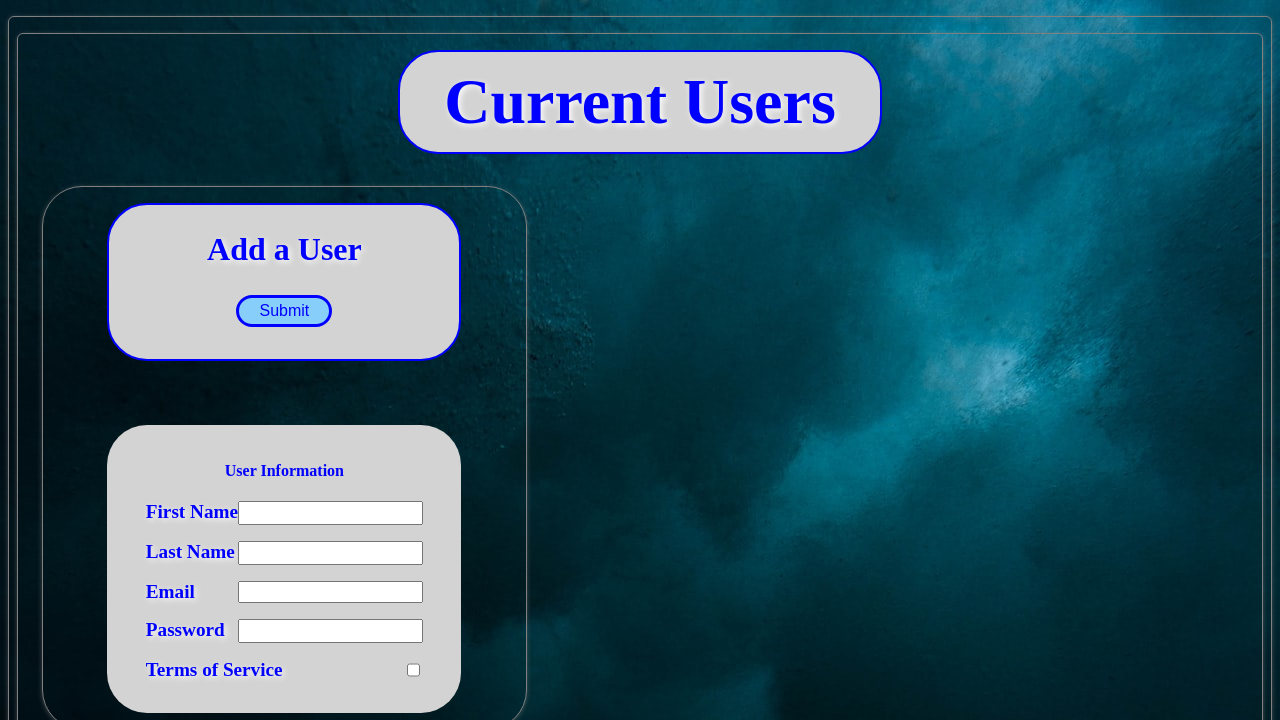
Test: Form validation › validates last name correctly
Expected: the text "Last name must be at least three characters long" is not shown
Type "a" into the field named "lName" at (331,553), box [238,541,423,565]
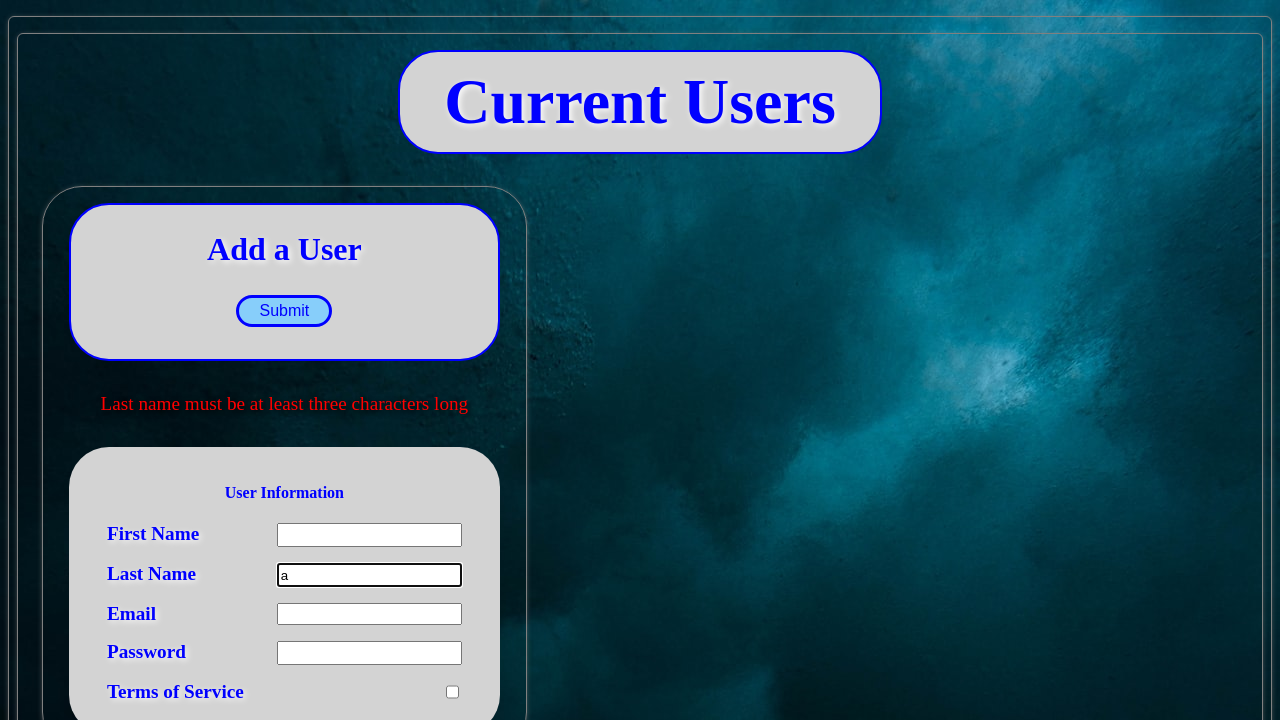
Now the text "Last name must be at least three characters long" is shown, box [101,393,468,415]
Type "b" into the field named "lName" at (370,575), box [277,563,462,587]
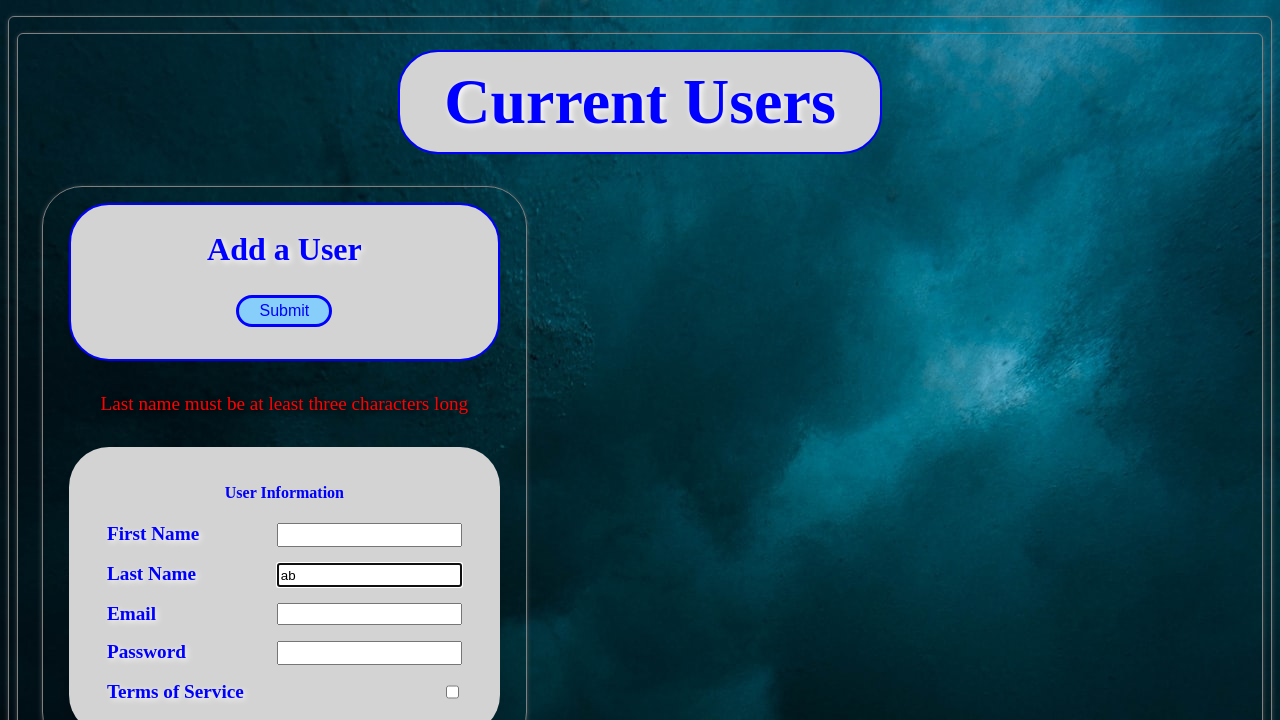
Now the text "Last name must be at least three characters long" is shown, box [101,393,468,415]
Type "c" into the field named "lName" at (370,575), box [277,563,462,587]
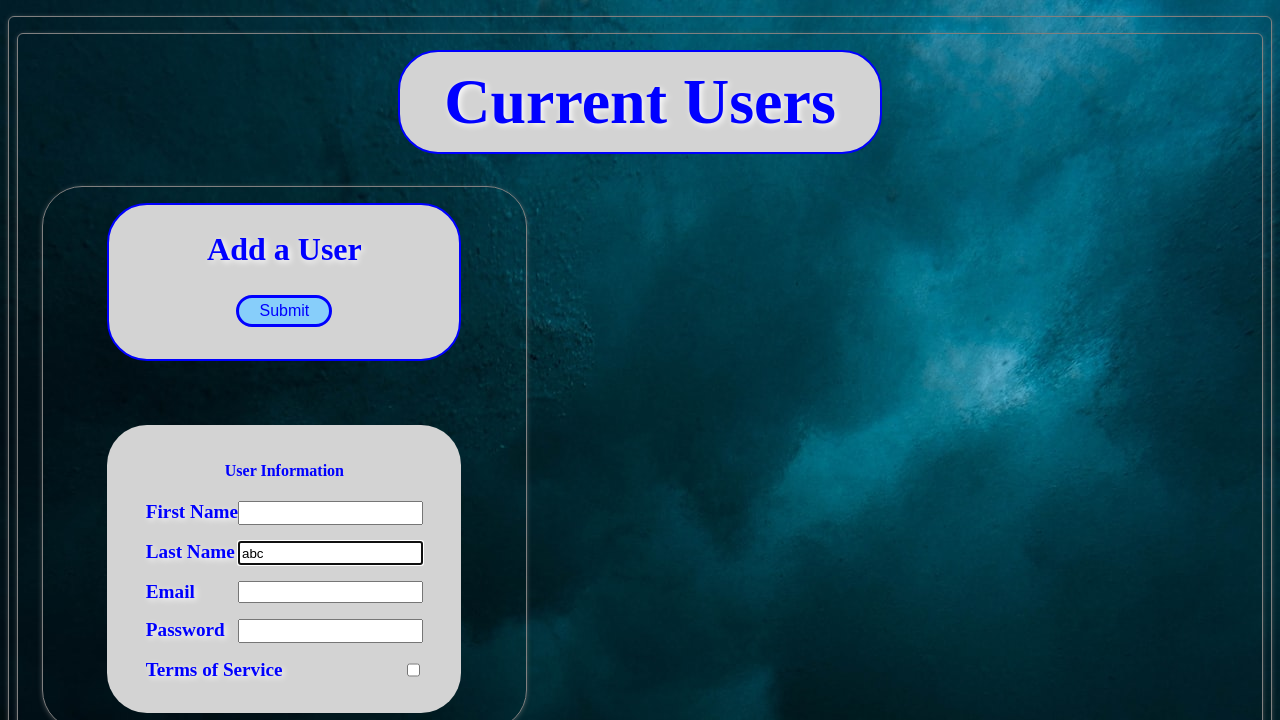
Now the text "Last name must be at least three characters long" is gone
